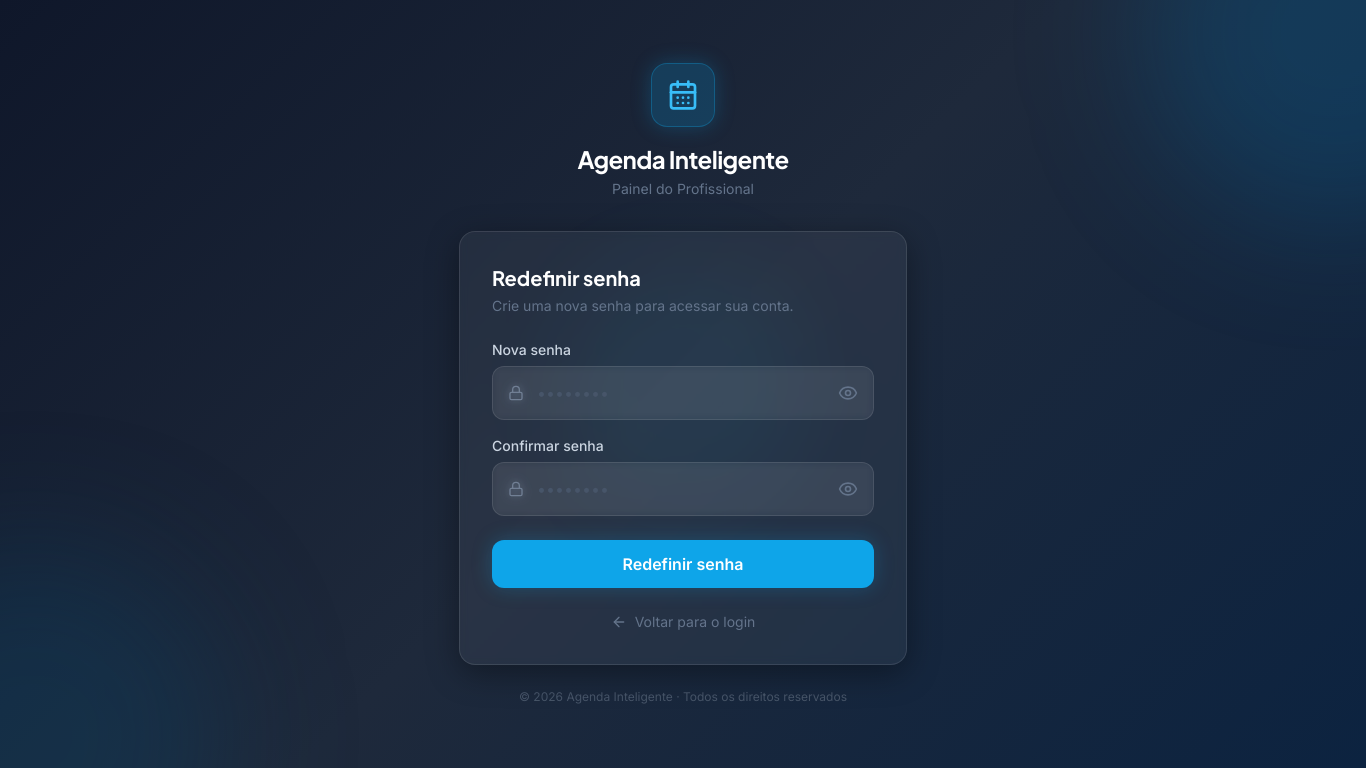
it: ResetPasswordPage › shows error when passwords do not match
Type "senha123" into the password field labelled "Nova senha" at (683, 393), box [492,366,874,420]
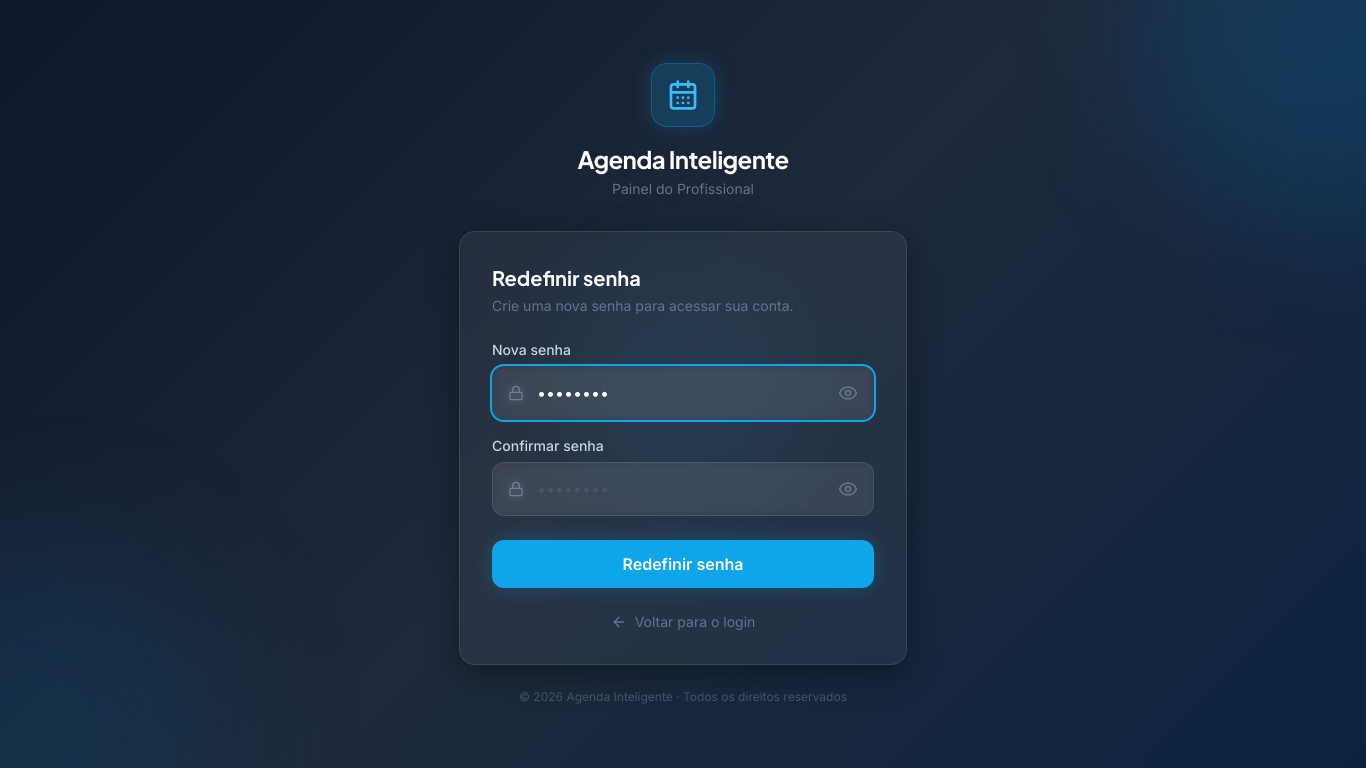
Type "senha999" into the password field labelled "Confirmar senha" at (683, 489), box [492,462,874,516]
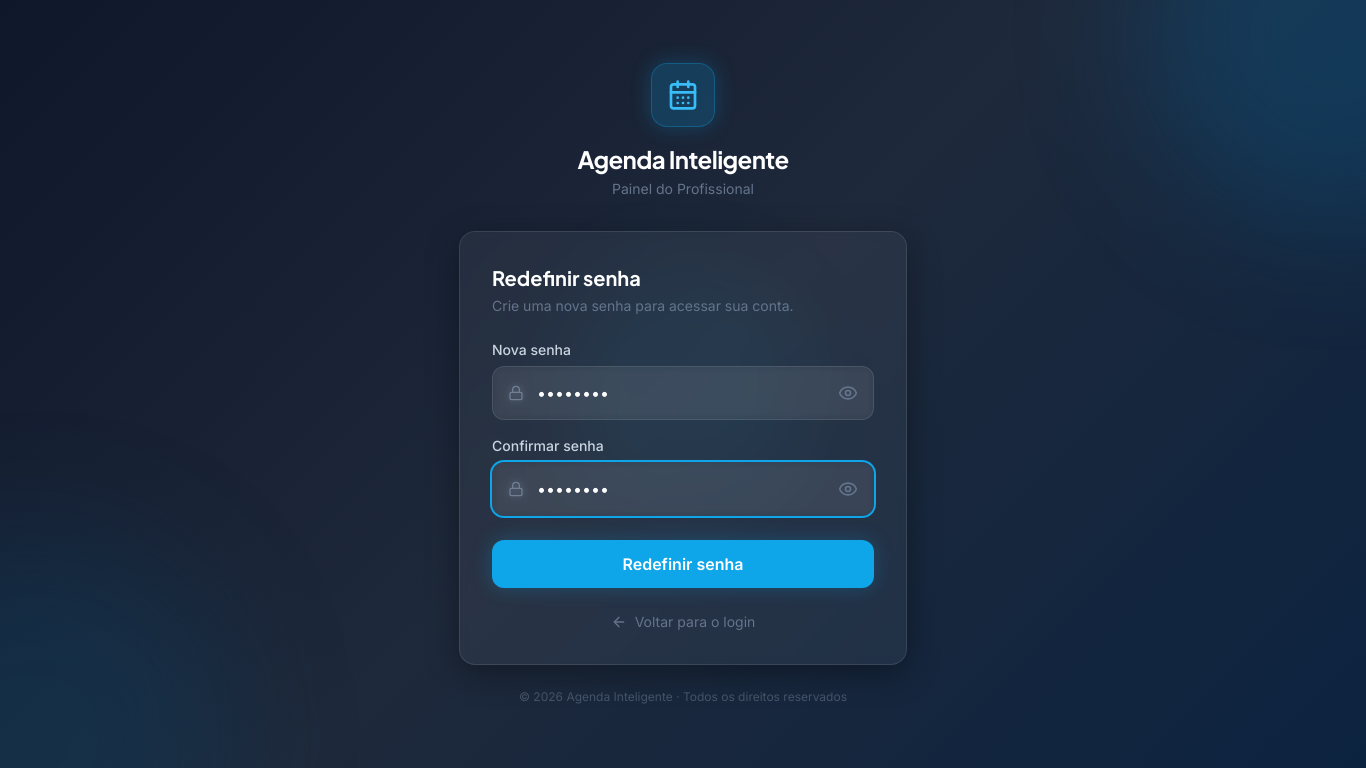
Submit the form "Nova senha Confirmar senha Redefinir senha", box [492,340,874,588]
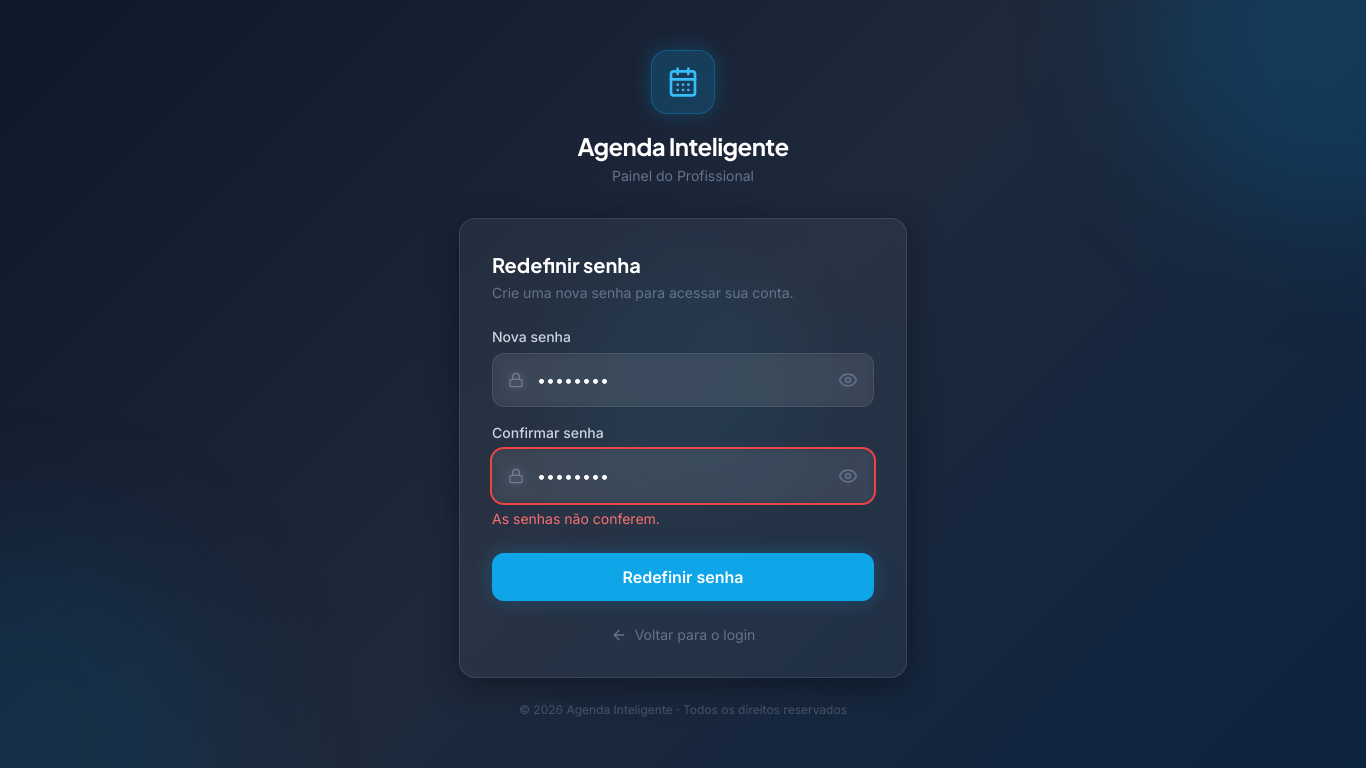
Expected: the text "As senhas não conferem." is shown, [492,510,660,527]
